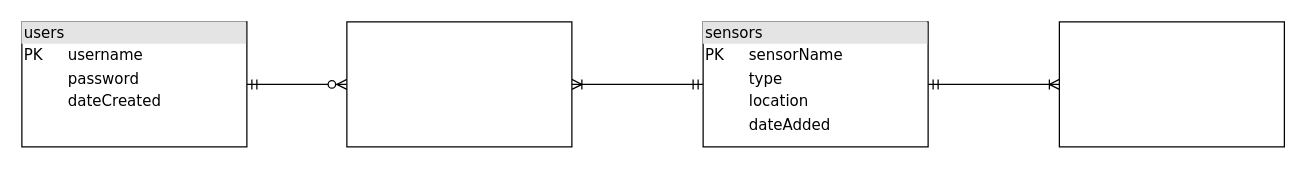
This 1306x169 diagram has some shape labels left out. The shapes that lost their labels are listed below. From the top down, each one's centre as x and y in pixels, then its label:
At (x=459, y=84): "subscriptions PK _id FK username FK sensorName EFFECT_TO_DATE".
At (x=1171, y=84): "data PK FK sensorName value PK dateRecorded dateCreated".
